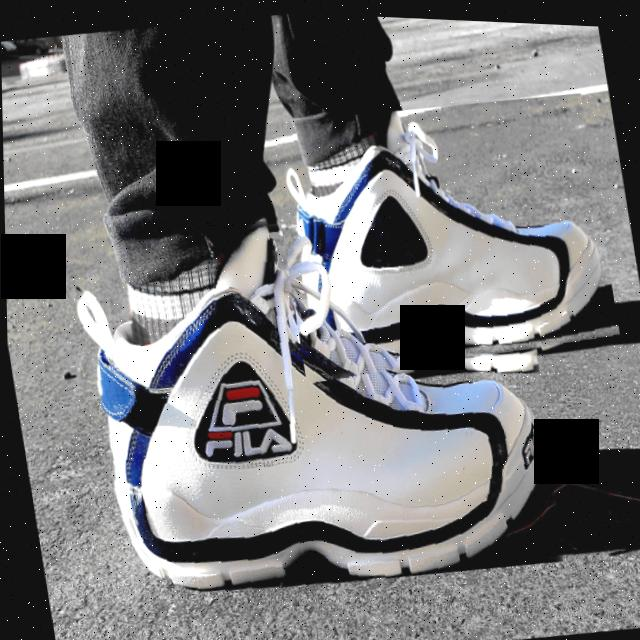shoe: (56, 167, 574, 619), (264, 77, 622, 392)
